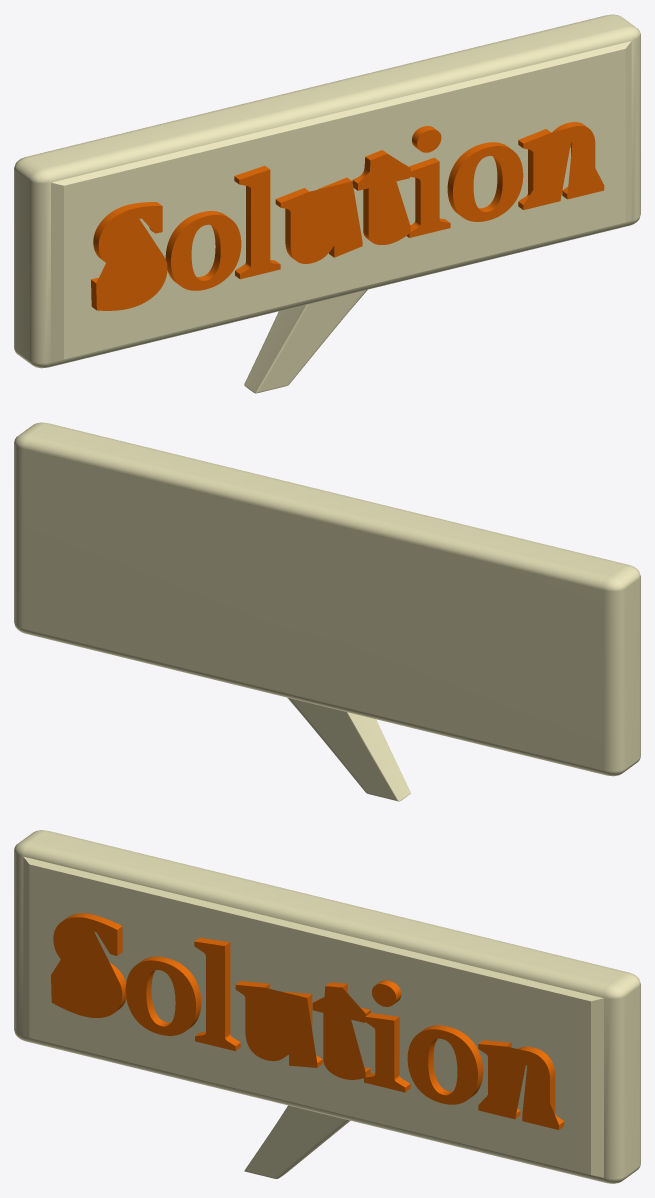
Rendered from Topic-solution.fbx.
3 renders of one model, top to bottom at view 1: azimuth 30°, elevation 25°; view 2: azimuth 150°, elevation 25°; view 3: azimuth 330°, elevation 25°, orthographic.
Parts seen in each view (by area): view 1: pCube2; view 2: pCube2; view 3: pCube2.
Boxes of the visible parts, x1,y1,x2,y2 form: pCube2: (14, 14, 640, 393); pCube2: (14, 422, 640, 801); pCube2: (14, 830, 640, 1183).
Bounding box in the file's own units: 11.74 × 5.13 × 1.22.
